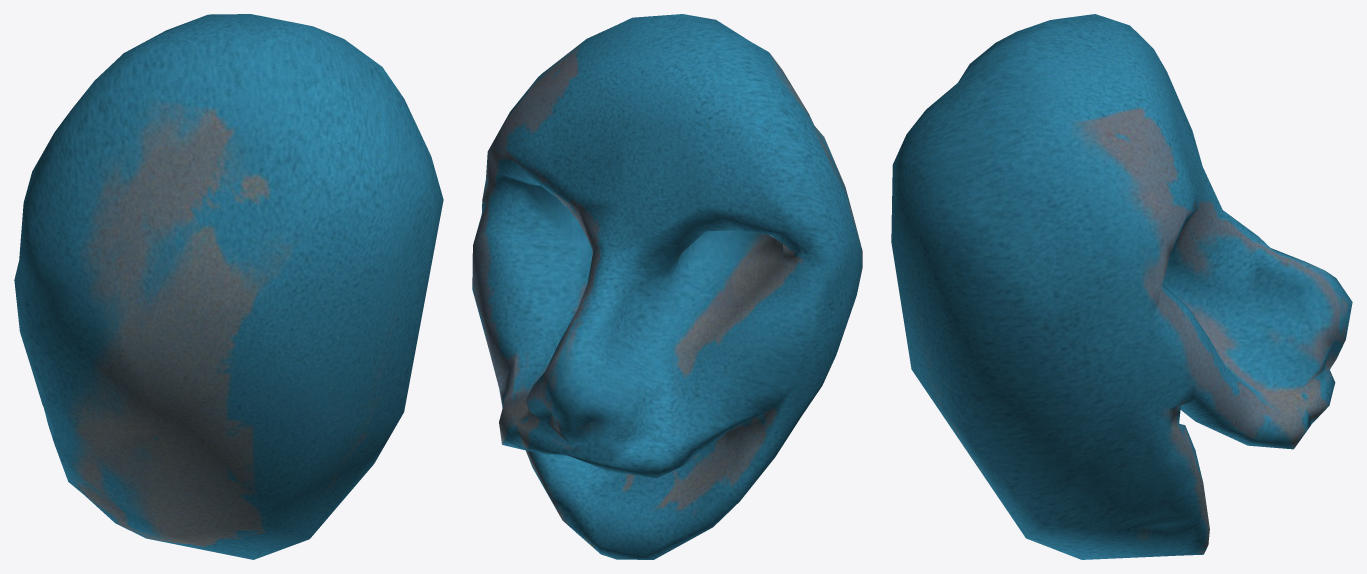
File: laughgoblin.glb
The picture shows the model from 3 angles, left to right: view 1: azimuth 30°, elevation 25°; view 2: azimuth 150°, elevation 25°; view 3: azimuth 270°, elevation 25°; orthographic projection. The views are drawn at different scales.
Visible parts, largest first — view 1: laughinggoblin_mesh_rgb_export; view 2: laughinggoblin_mesh_rgb_export; view 3: laughinggoblin_mesh_rgb_export.
Boxes of the visible parts, x1,y1,x2,y2 form: laughinggoblin_mesh_rgb_export: (14, 14, 443, 559); laughinggoblin_mesh_rgb_export: (472, 14, 862, 559); laughinggoblin_mesh_rgb_export: (891, 14, 1352, 559).
Size of the model in its own units: 0.6588 by 0.9156 by 0.742.
1 material, 1 textured.
